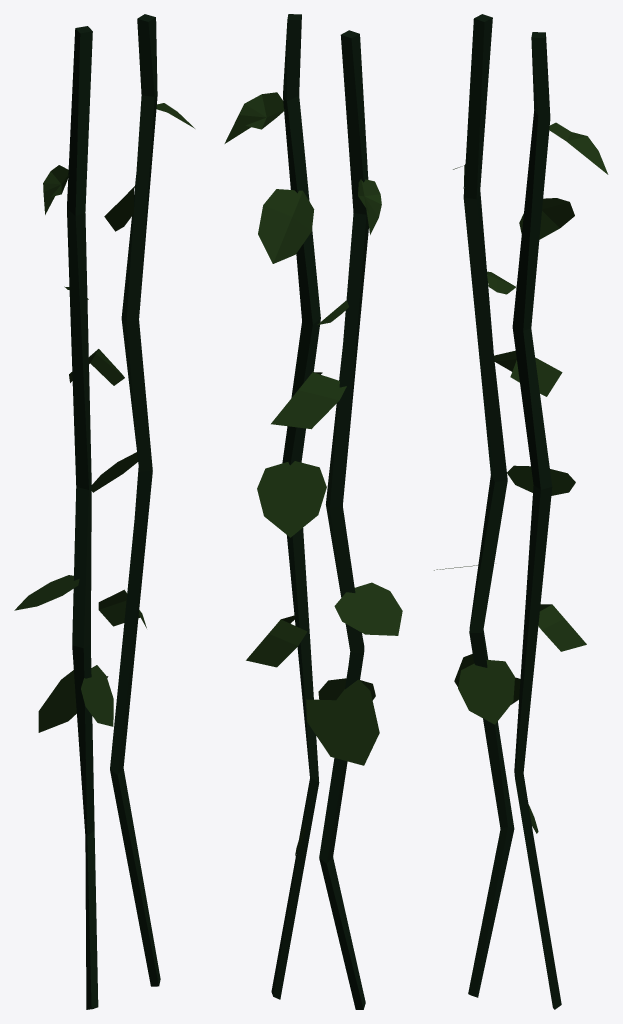
File: melon3.FBX
The picture shows the model from 3 angles, left to right: view 1: azimuth 30°, elevation 25°; view 2: azimuth 150°, elevation 25°; view 3: azimuth 330°, elevation 25°; orthographic projection.
Parts seen in each view (by area): view 1: melon3; view 2: melon3; view 3: melon3.
Part boxes in pixels (box(x1,y1,x2,y2)): melon3: box(14, 14, 194, 1009); melon3: box(224, 14, 402, 1009); melon3: box(434, 14, 608, 1009).
Bounding box in the file's own units: 63.19 × 31.14 × 332.
